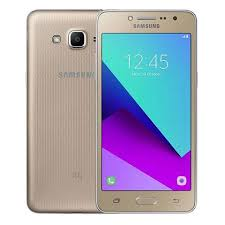samsung: (93, 8, 197, 214), (24, 6, 100, 213)
